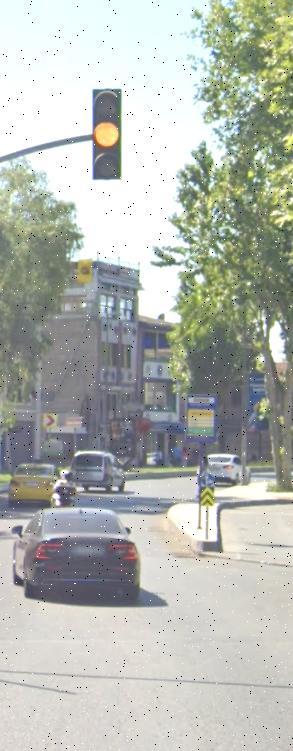yellowlight: (93, 91, 125, 177)
